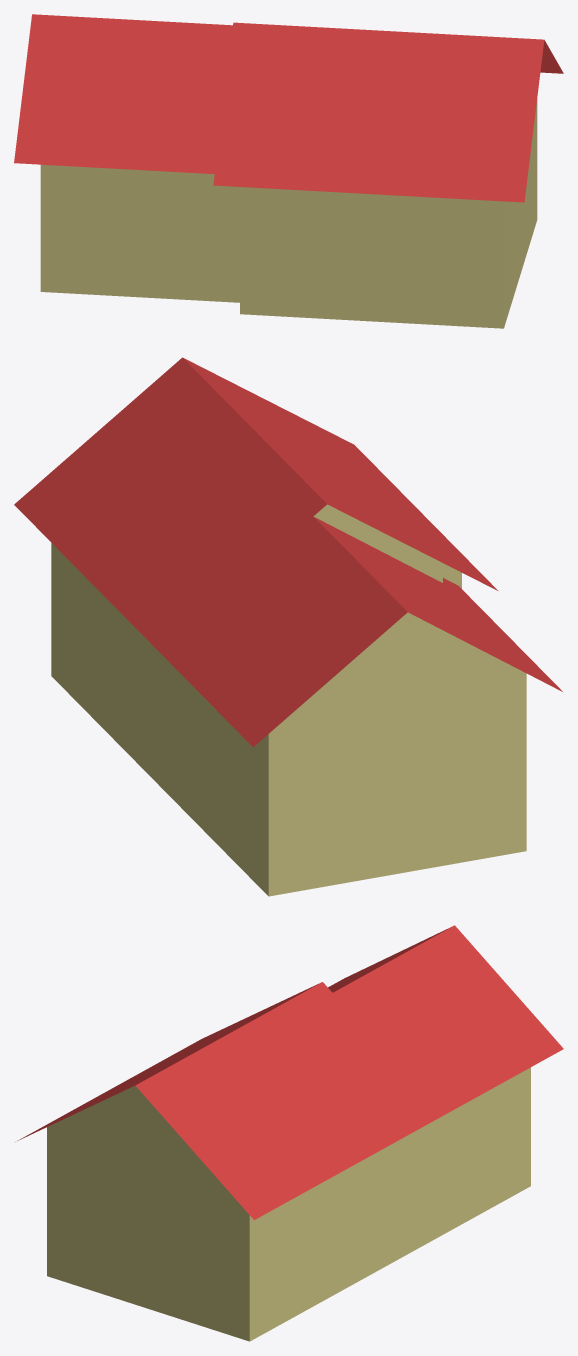
3 renders of one model, top to bottom at view 1: azimuth 30°, elevation 25°; view 2: azimuth 150°, elevation 25°; view 3: azimuth 270°, elevation 25°, orthographic. The views are drawn at different scales.
Bounding box in the file's own units: 24.42 × 23.44 × 10.9.
